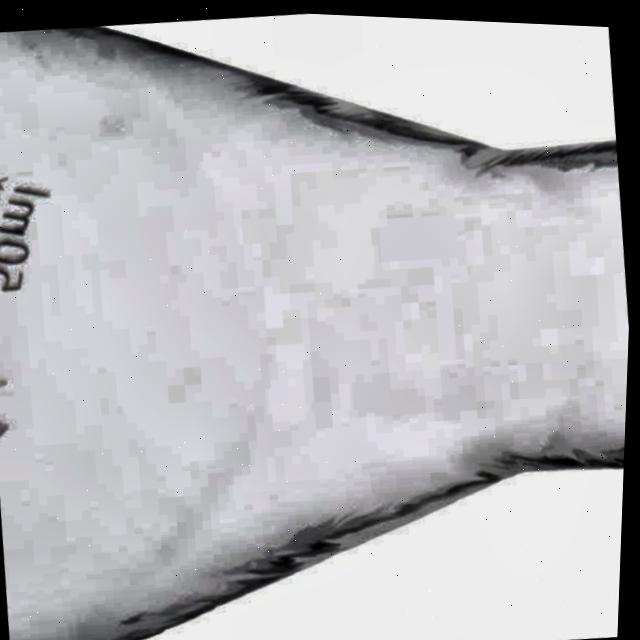glass: (0, 24, 631, 640)
